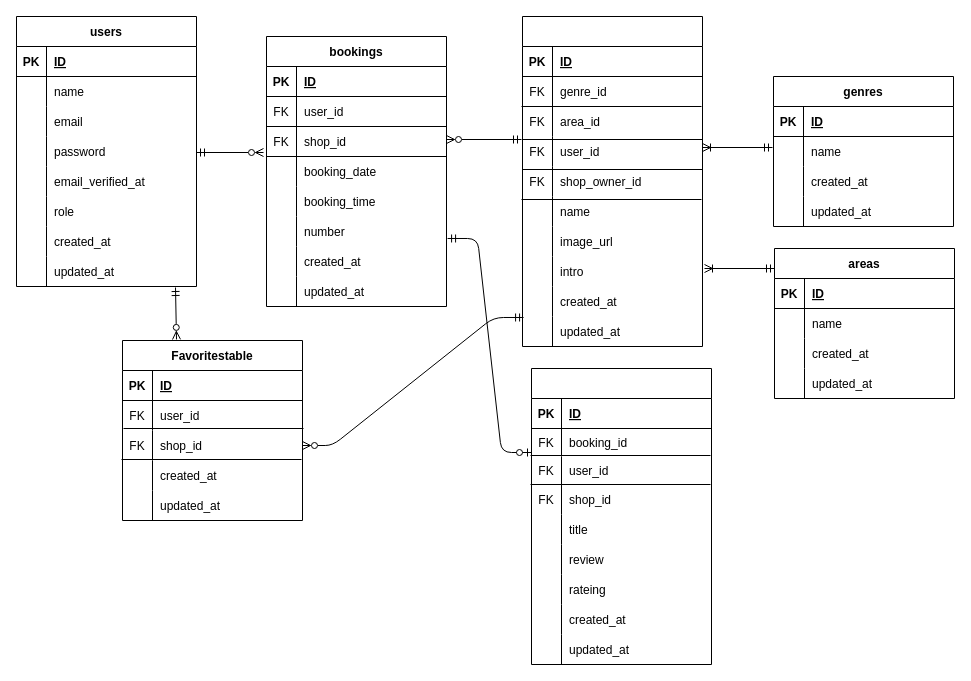
Some shapes in this 971 by 681 pixel diagram are drawn without their labels. The box of each missing label's shape, as (x1, y1, x2, y2) in pixels:
reviews: (530, 368, 712, 664)
shops: (522, 16, 702, 346)
